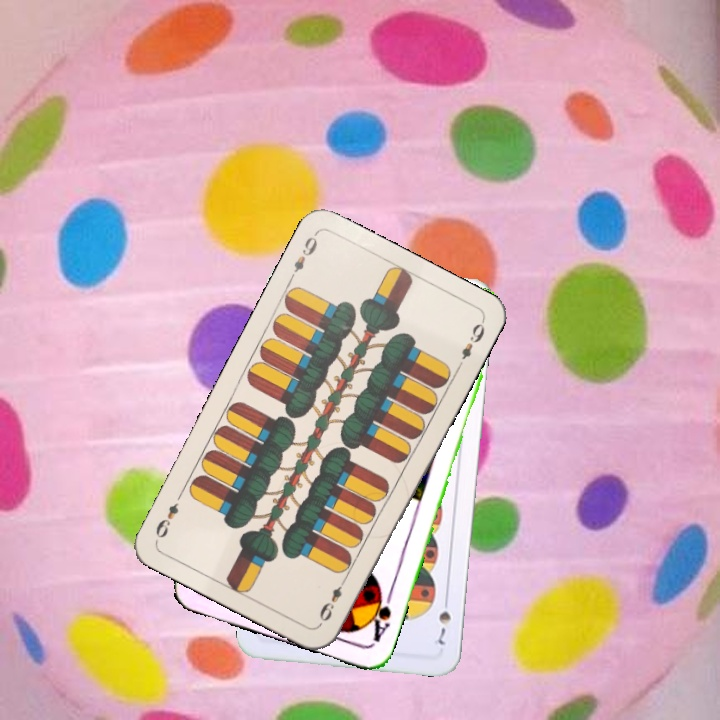E9: (285, 230, 320, 284), (315, 573, 350, 625)
S7: (430, 592, 453, 651)
SA: (364, 585, 395, 645)
